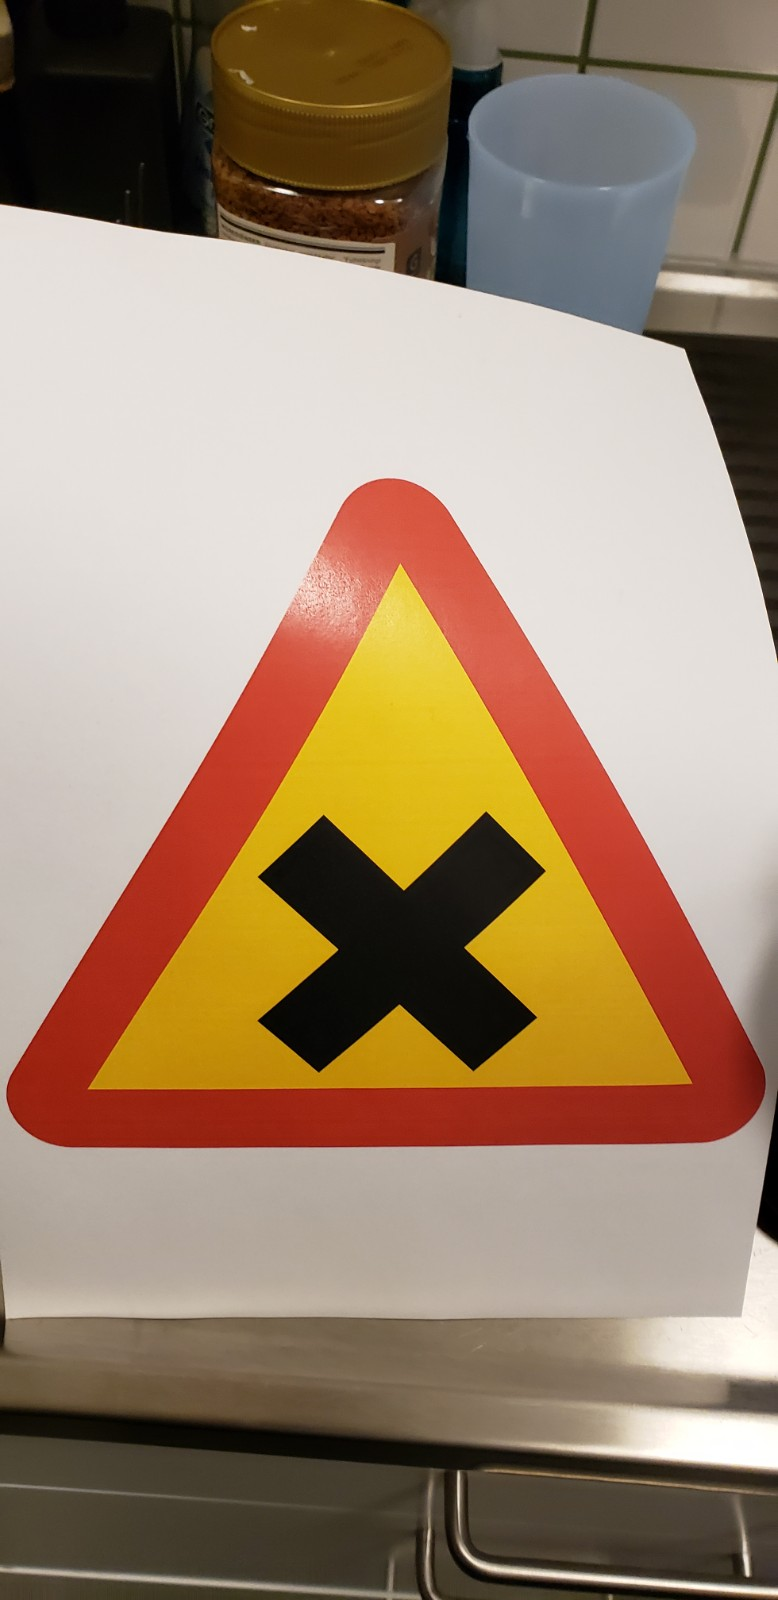junction: (7, 351, 778, 1210)
